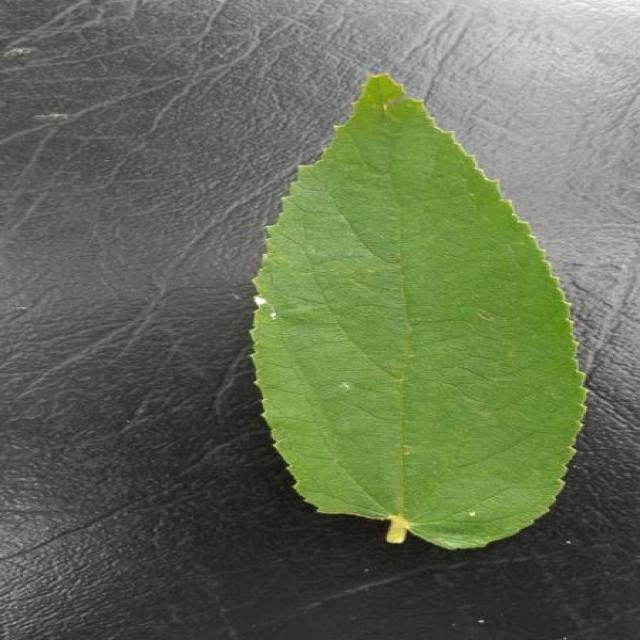gasagase: (252, 74, 585, 549)
